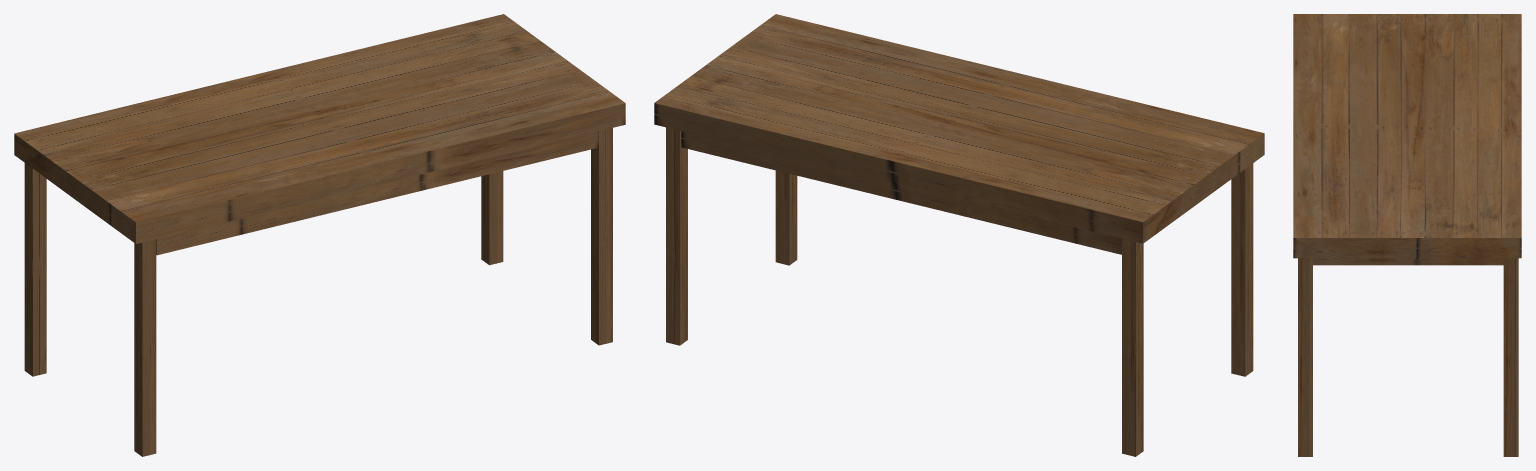
File: Table.fbx
3 views of the same model, side by side, from view 1: azimuth 30°, elevation 25°; view 2: azimuth 150°, elevation 25°; view 3: azimuth 270°, elevation 25° (orthographic). The views are drawn at different scales.
Parts seen in each view (by area): view 1: Table; view 2: Table; view 3: Table.
Part boxes in pixels (x1=…): Table: x1=14, y1=14, x2=625, y2=456; Table: x1=654, y1=14, x2=1264, y2=456; Table: x1=1293, y1=14, x2=1521, y2=456.
Bounding box in the file's own units: 1760 × 819 × 759.
